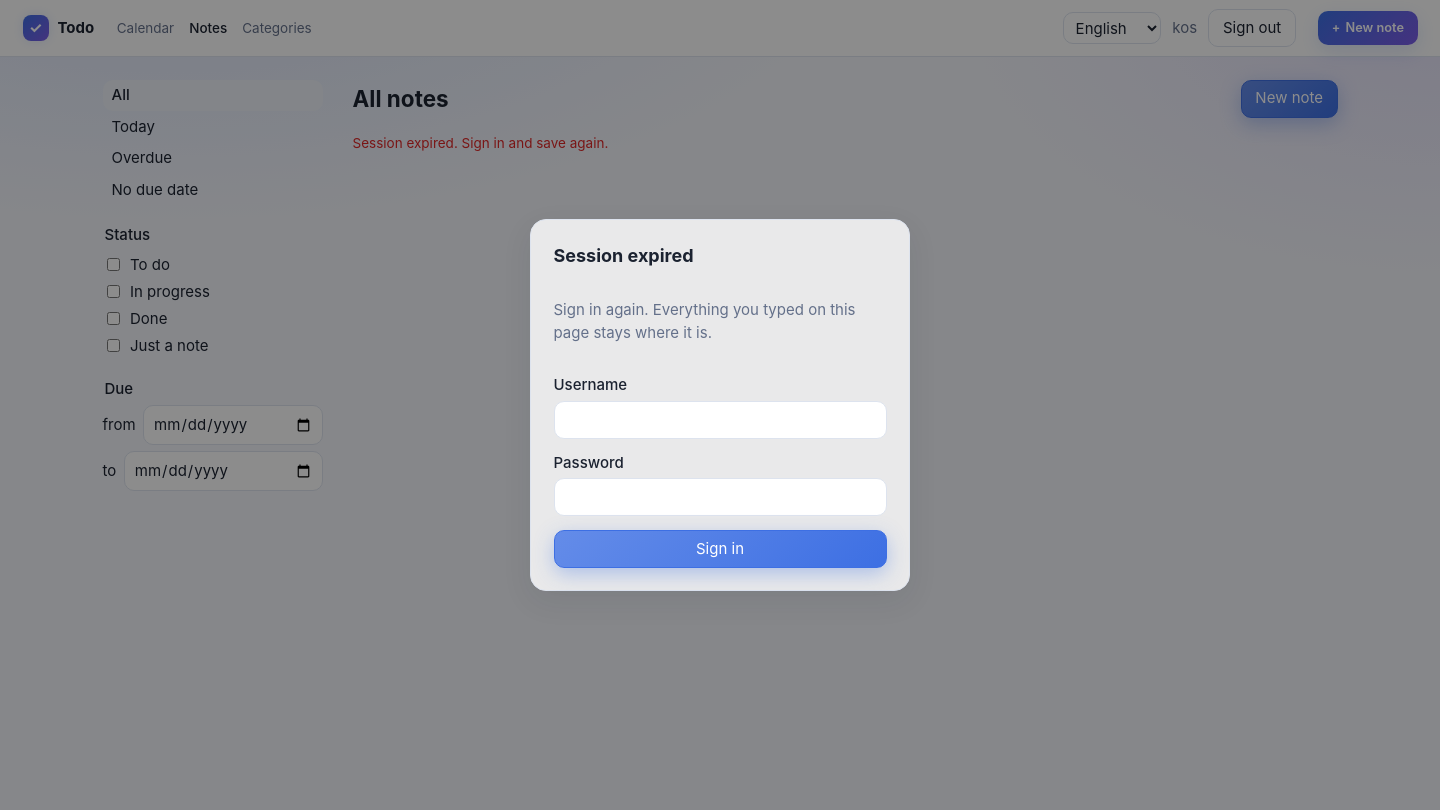
Test case: expired session › asks to sign in again on top of the page and reloads what failed
The width and height of the screenshot is (1440, 810).
Type "kos" into the field labelled "Username". click: (720, 420)
box: [554, 400, 886, 438]
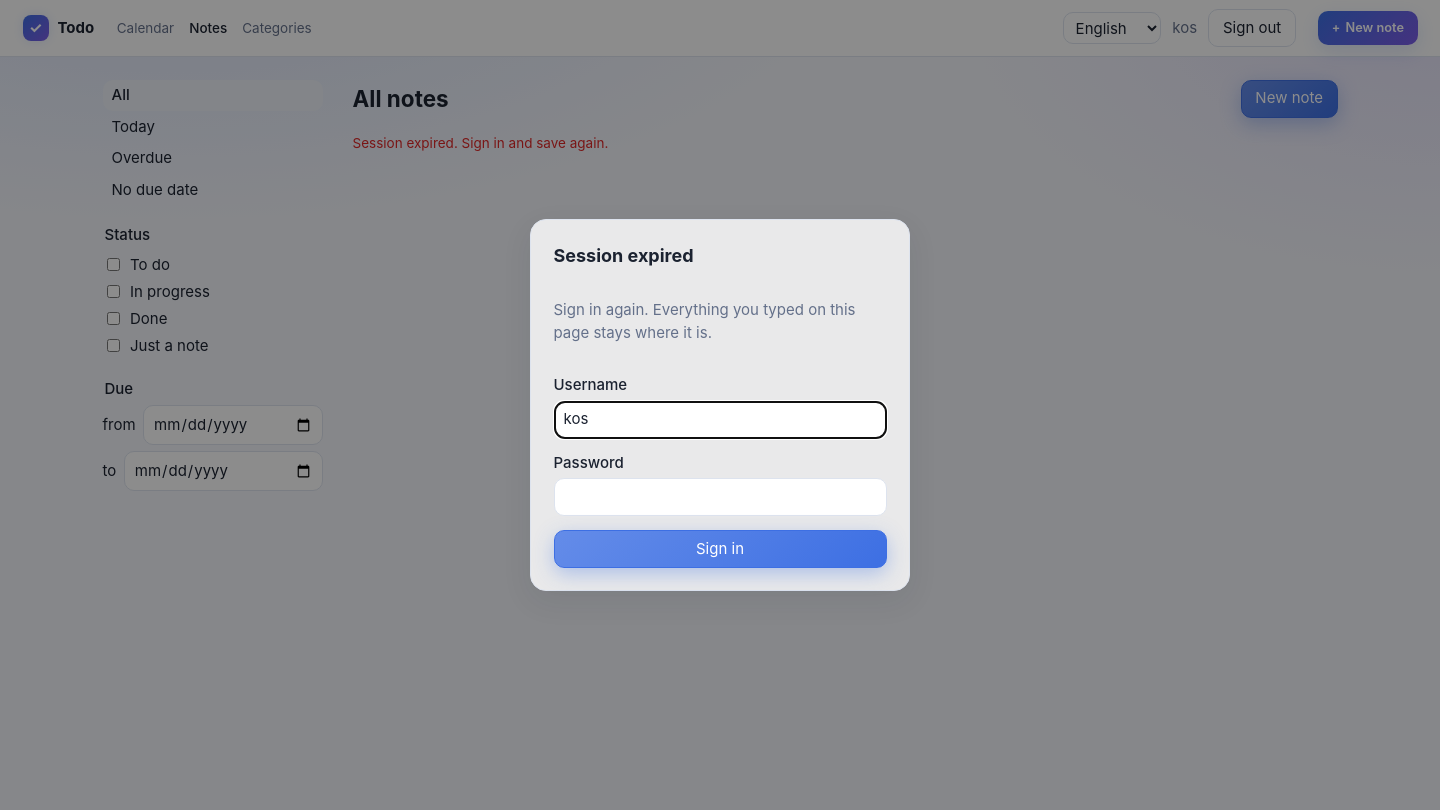
Type "secret-pass" into the password field labelled "Password". click: (720, 497)
box: [554, 478, 886, 516]
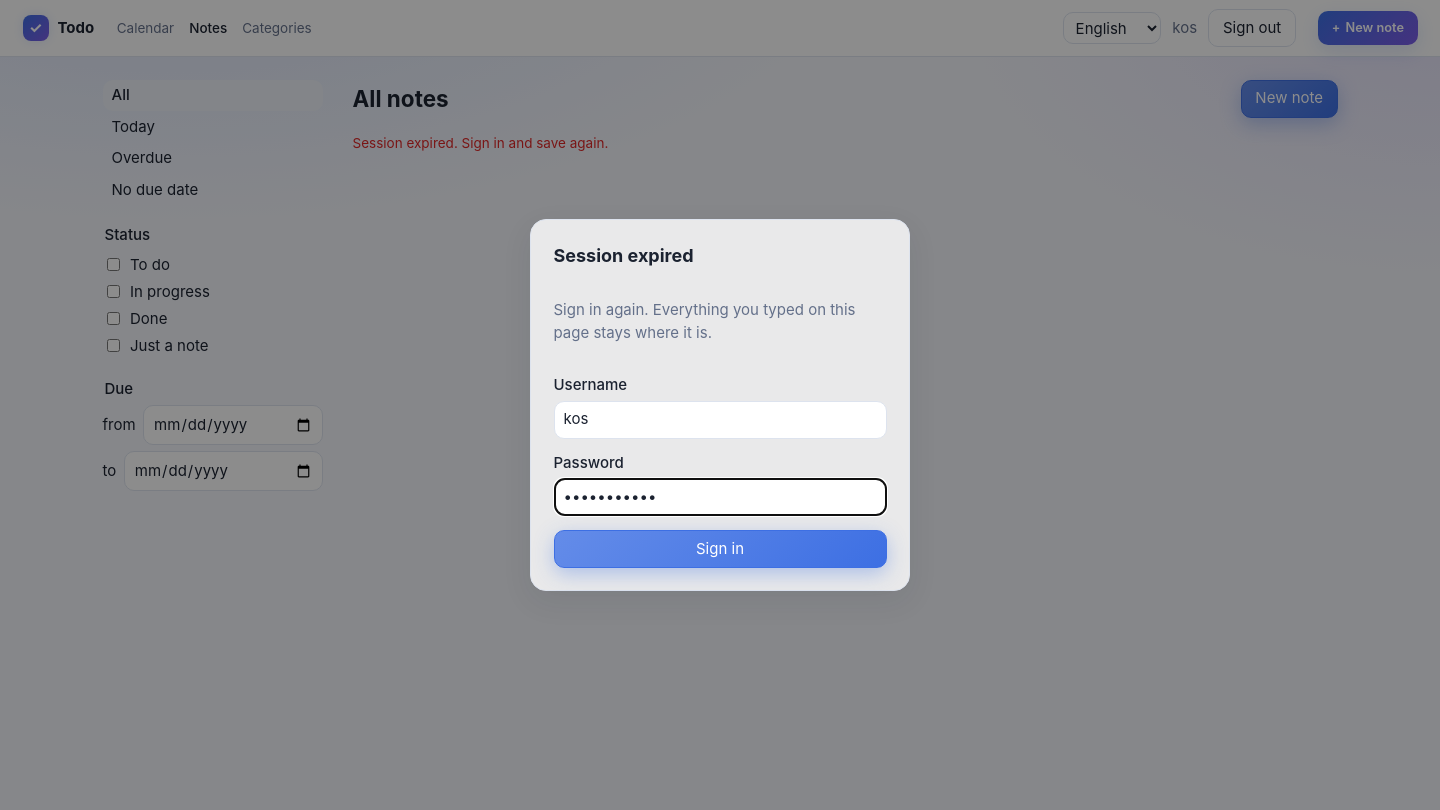
Click the button "Sign in". click: (720, 549)
box: [554, 530, 886, 568]
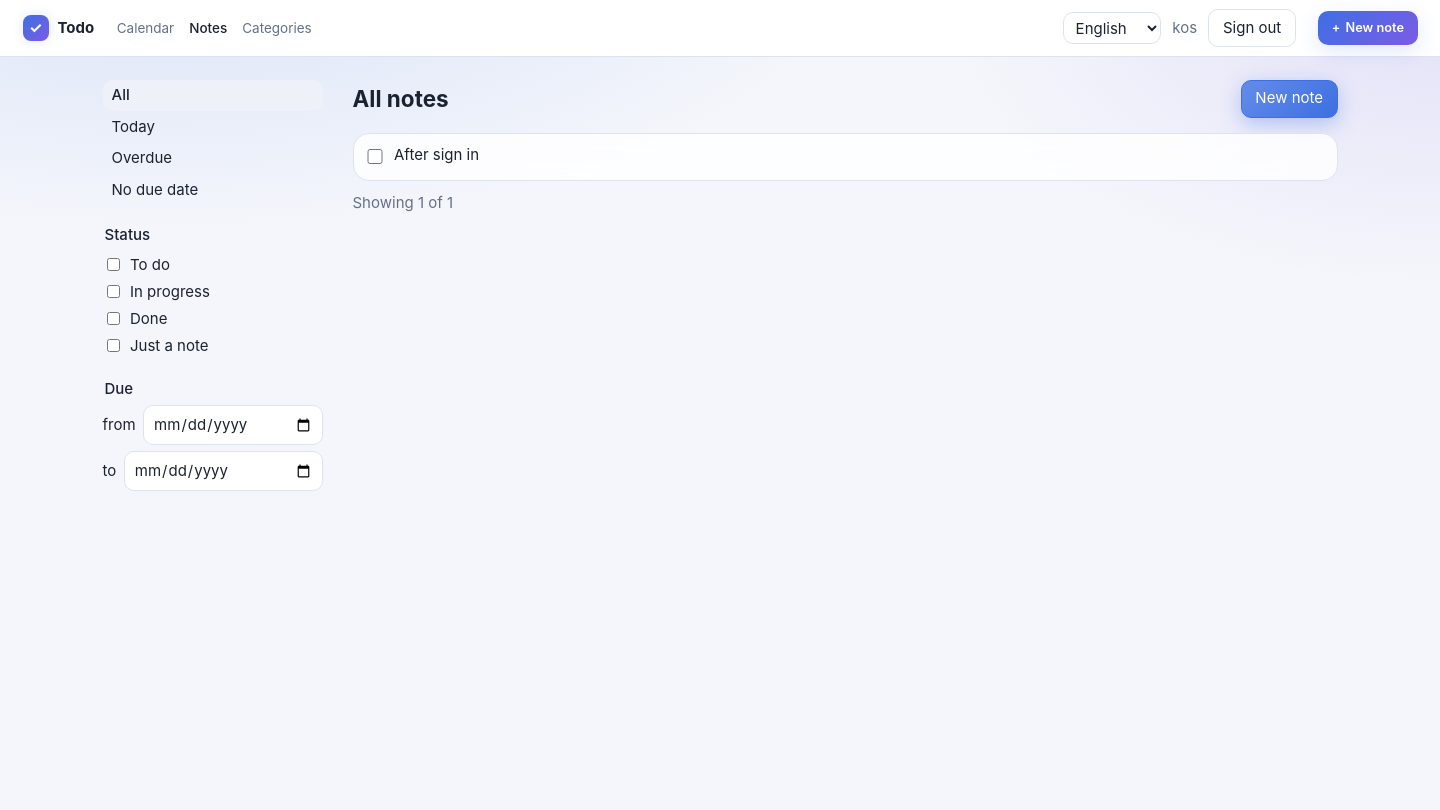
Check: the link "After sign in" is shown, box [394, 145, 479, 164]
Check: the dialog is gone
